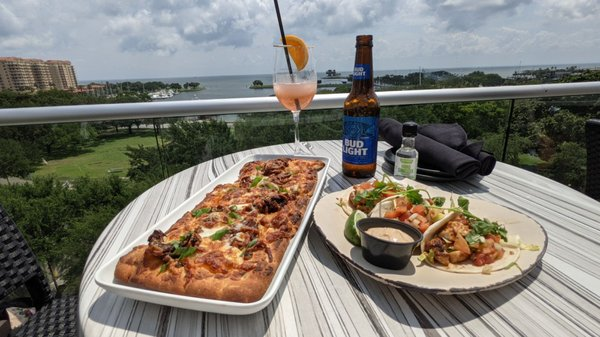sushi: (357, 215, 421, 270)
